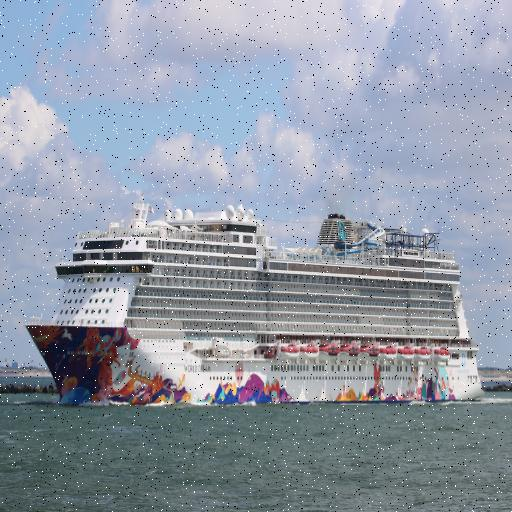cruises: (24, 199, 487, 414)
